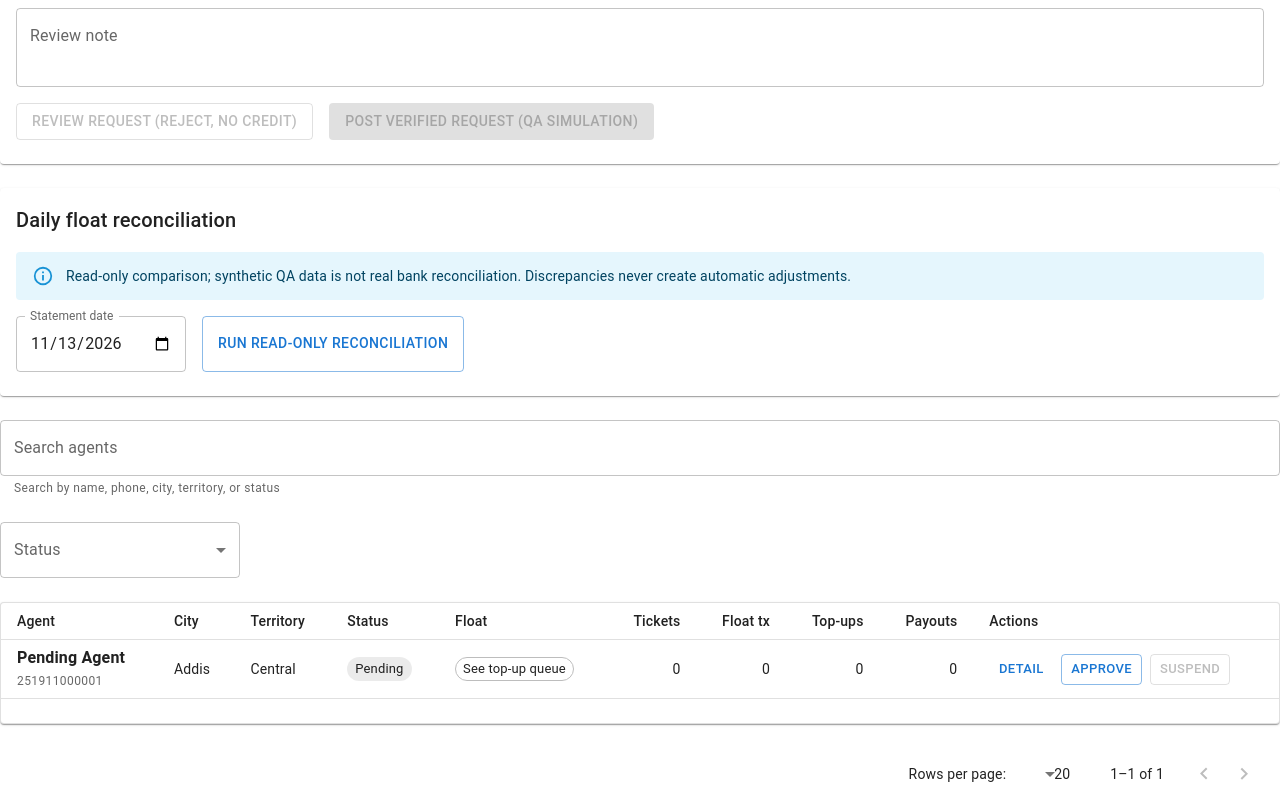
Scenario: AgentsPage float top-up review › closes the approval dialog after the API confirms success
The width and height of the screenshot is (1280, 800).
(page scrolled)
Step 1. Click the button "Approve" → (1102, 670), box [1061,654,1142,685]
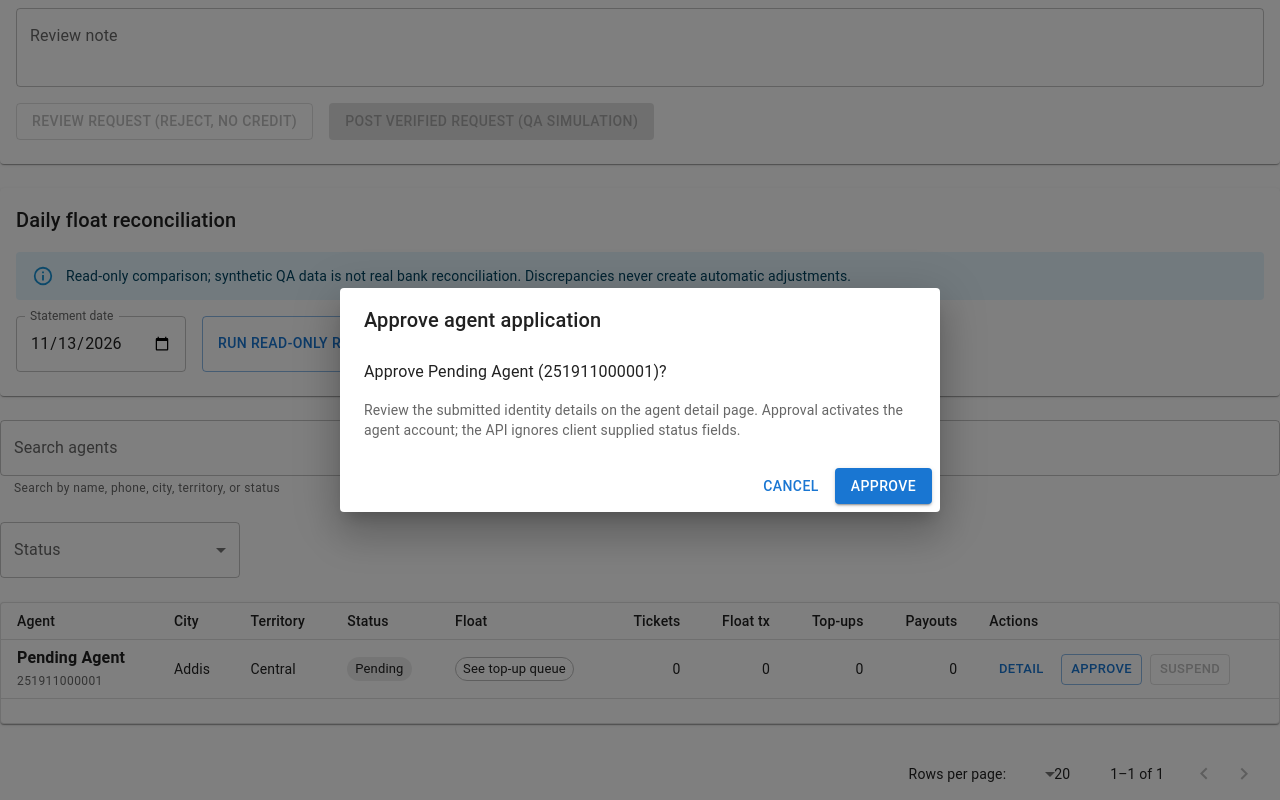
Step 2. Click the button "Approve" → (883, 486), box [835,468,932,504]
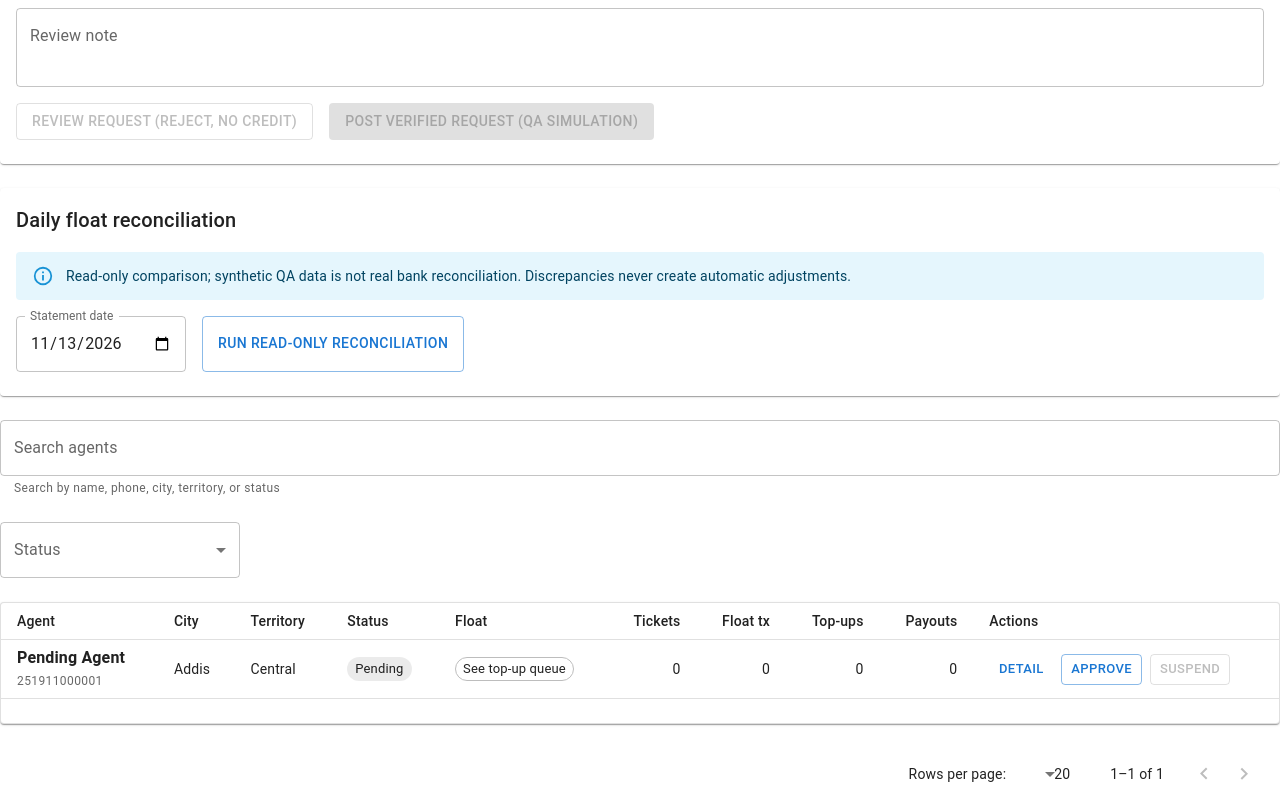
Check: the heading "Approve agent application" is gone
